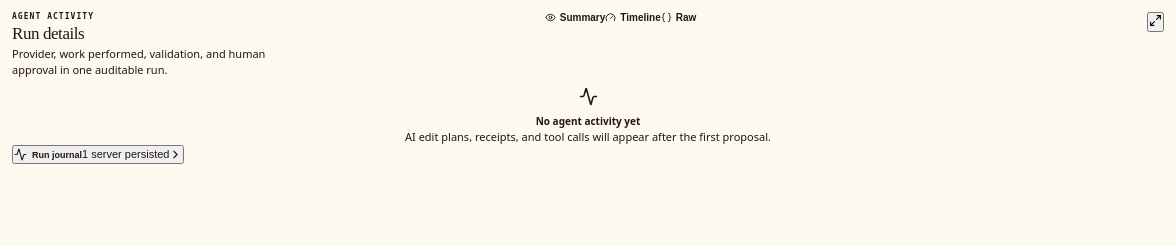
Test: NodeSlide trace validation receipts › renders the durable run journal and reveals persisted web tool evidence
This screenshot has width=1176, height=246.
Check: the text "Run journal" is shown, box [14,148,82,161]
Check: the text "1 server persisted" is shown, box [82,146,169,162]
Click the button with aria-label "Durable agent run journal".
click(98, 154)  # box [12,144,184,164]
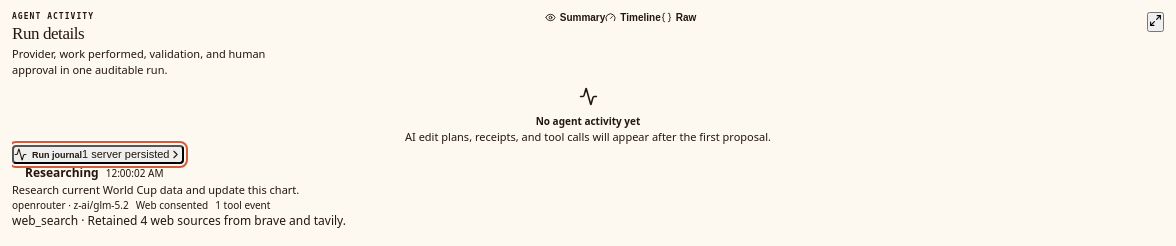
Check: the text "Web consented" is shown, box [136,198,208,212]
Check: the list item "web_search · Retained 4 web sources from brave and tavily." is shown, box [12,212,346,229]
Check: the text "openrouter · z-ai/glm-5.2" is shown, box [12,198,129,212]
